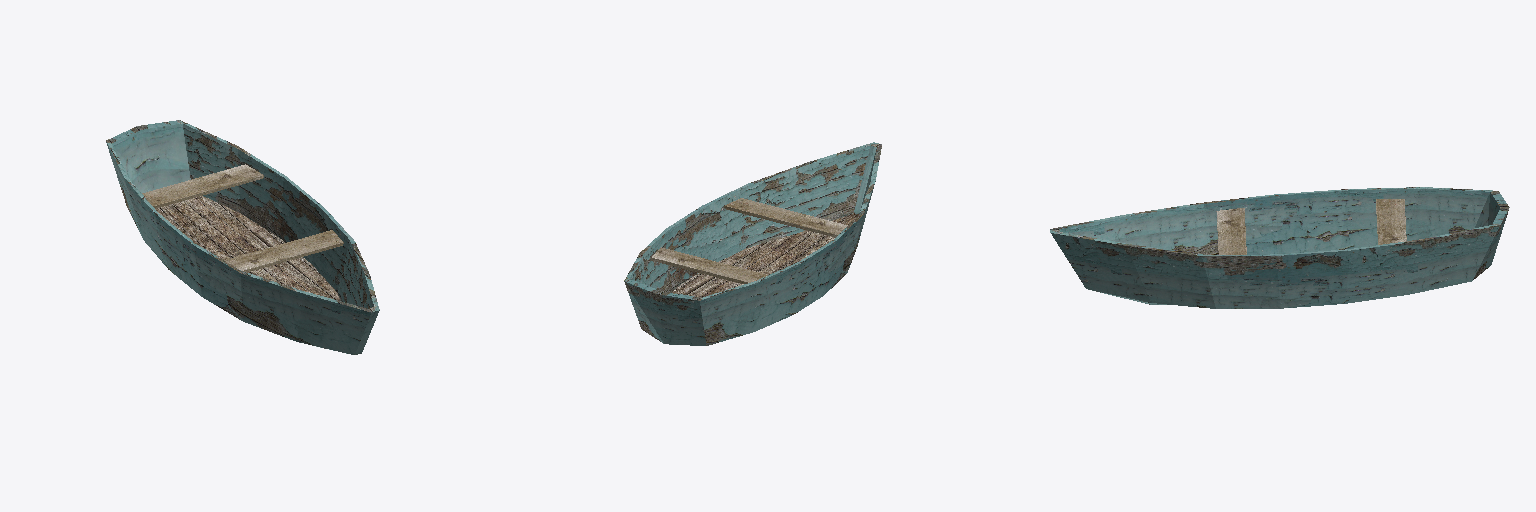
The picture shows the model from 3 angles: view 1: azimuth 30°, elevation 25°; view 2: azimuth 150°, elevation 25°; view 3: azimuth 270°, elevation 25°; orthographic projection.
Visible parts, largest first — view 1: Cube.002, Cube.001; view 2: Cube.002, Cube.001; view 3: Cube.002, Cube.001.
Part boxes in pixels (x1,y1,x2,y2): Cube.002: (106,120,379,354); Cube.001: (142,164,343,272); Cube.002: (624,142,881,345); Cube.001: (651,198,847,283); Cube.002: (1050,187,1509,308); Cube.001: (1216,199,1406,254).
Bounding box in the file's own units: 4.96 × 3.32 × 14.66.
Materials: 3 (3 with a texture image).